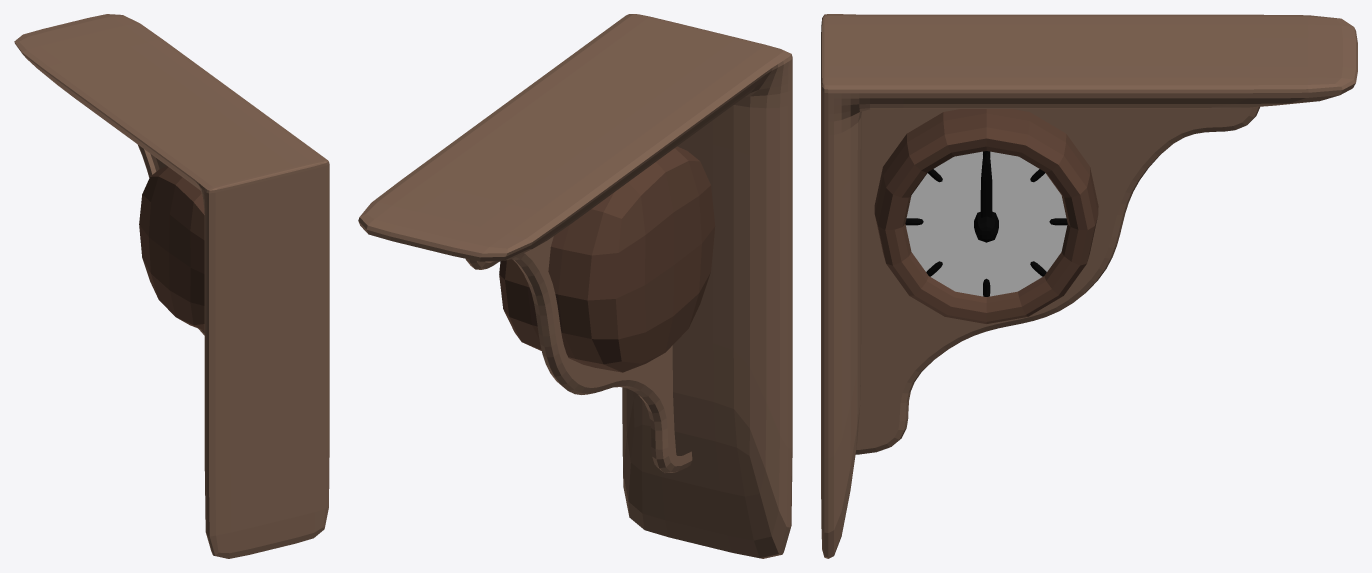
Rendered from Clock.fbx.
The picture shows the model from 3 angles, left to right: view 1: azimuth 30°, elevation 25°; view 2: azimuth 150°, elevation 25°; view 3: azimuth 270°, elevation 25°; orthographic projection. The views are drawn at different scales.
Parts seen in each view (by area): view 1: CornerFrame, ClockCircle; view 2: CornerFrame, ClockCircle, FlatCurve; view 3: CornerFrame, FlatCurve, ClockCircle, ClockFace, ClockTicks, ClockHand.
Part boxes in pixels (bbox=[...]): CornerFrame: bbox=[14, 14, 329, 558]; ClockCircle: bbox=[139, 166, 204, 330]; CornerFrame: bbox=[358, 14, 792, 558]; ClockCircle: bbox=[499, 146, 715, 372]; FlatCurve: bbox=[465, 236, 692, 472]; CornerFrame: bbox=[821, 14, 1357, 558]; FlatCurve: bbox=[855, 106, 1259, 454]; ClockCircle: bbox=[874, 109, 1098, 323]; ClockFace: bbox=[906, 151, 1067, 296]; ClockTicks: bbox=[905, 151, 1067, 296]; ClockHand: bbox=[980, 152, 992, 217].
Bounding box in the file's own units: 146 × 430 × 433.
